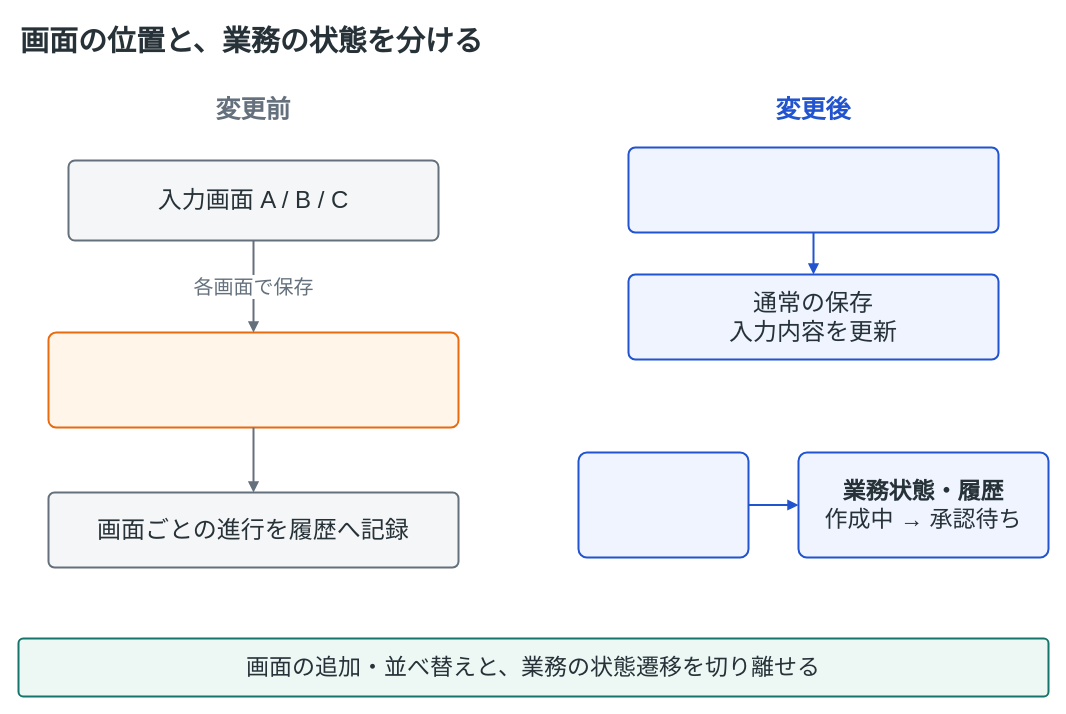
Some shapes in this 1066 by 714 pixel diagram are drawn without their labels. Here are the shapes that lost their labels. From the top down, the centre of each, then its label:
the point at 813,189: UI が持つ 現在の画面 A / B / C
the point at 253,379: 画面に対応した業務状態 入力 A 中 / B 中 / C 中
the point at 663,504: 業務操作 承認依頼
